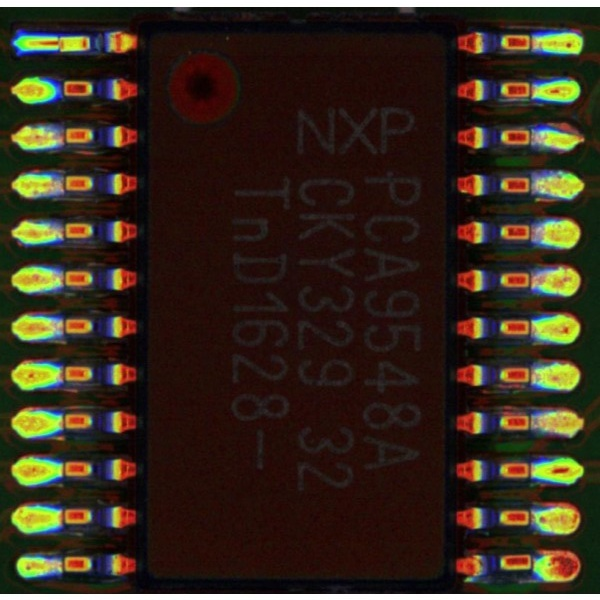Bad_podu: (516, 35, 553, 48), (516, 273, 547, 287), (516, 369, 553, 380), (516, 416, 549, 427), (39, 36, 74, 46)
